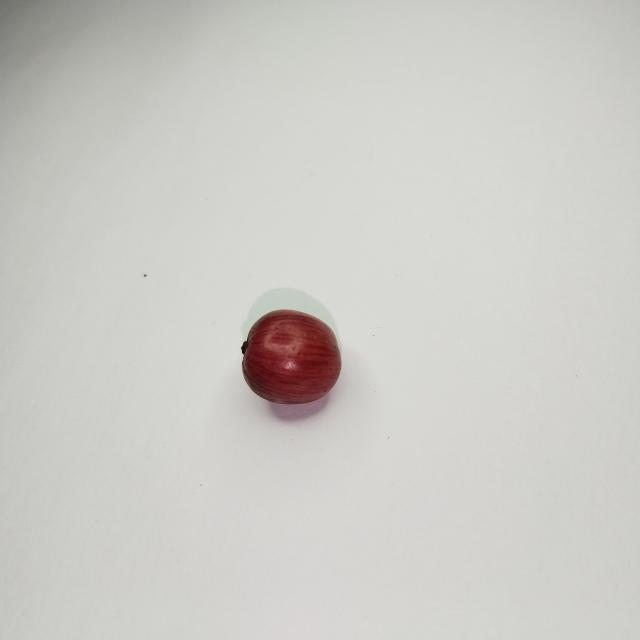Sano: (243, 310, 340, 403)
